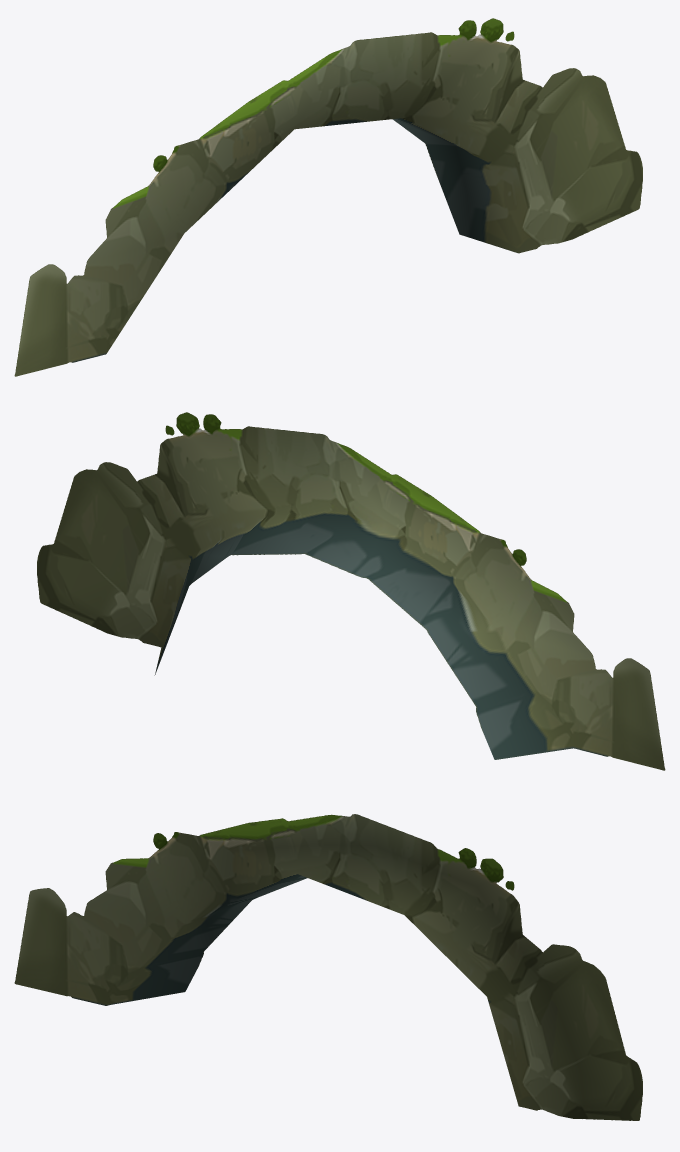
File: Chapter4Scene1Model1.FBX
3 views of the same model, one above another, from view 1: azimuth 30°, elevation 25°; view 2: azimuth 150°, elevation 25°; view 3: azimuth 330°, elevation 25° (orthographic).
Parts seen in each view (by area): view 1: Chapter4Scene1Model1; view 2: Chapter4Scene1Model1; view 3: Chapter4Scene1Model1.
Part boxes in pixels (box(x1,y1,x2,y2)): Chapter4Scene1Model1: box(14, 18, 642, 376); Chapter4Scene1Model1: box(37, 412, 665, 770); Chapter4Scene1Model1: box(14, 814, 642, 1120).
Size of the model in its own units: 302 by 26.51 by 118.
